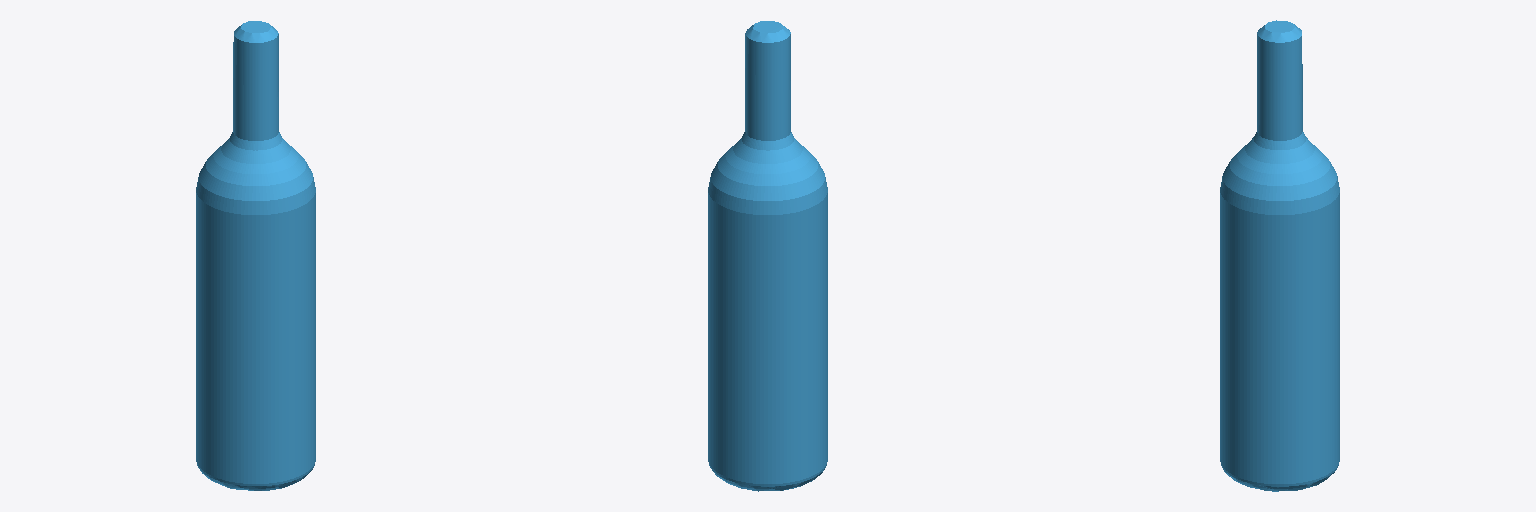
robot.urdf — bottle:
<?xml version="1.0" ?>
<robot name="bottle">
	<link name="bottle_pose"/>
	<link name="bottle">
		<visual>
			<origin xyz = "0 0 0"/>
			<geometry>
				<mesh filename="package://objects_description/bottle/bottle.obj" />
			</geometry>
		</visual>
		<collision>
			<origin xyz="0 0 0"/>
			<geometry>
				<mesh filename="package://objects_description/bottle/bottle.obj" />
			</geometry>
		</collision>
		<inertial>
			<mass value="1.2"/>
			<inertia ixx="0.0" ixy="0.0" ixz="0.0" iyy="0.0" iyz="0.0" izz="0.04" />
		</inertial>
	</link>
	<joint name="joint_0" type="fixed">
		<origin rpy="0 0 0" xyz="0 0 0"/>
		<child link="bottle_pose"/>
		<parent link="bottle"/>
	</joint>
</robot>

--- What the picture shows (computed from the rendered views, not written in the file) ---
3 views of the same robot in one strip: view 1: azimuth 30°, elevation 25°; view 2: azimuth 150°, elevation 25°; view 3: azimuth 270°, elevation 25° (orthographic).
Model bottle with 2 links and 1 joints (1 fixed), rooted at bottle, posed every joint at zero.
Links seen in each view (by area): view 1: bottle; view 2: bottle; view 3: bottle.
Link boxes in pixels (x1=…): bottle: x1=196, y1=21, x2=315, y2=490; bottle: x1=708, y1=21, x2=827, y2=491; bottle: x1=1220, y1=20, x2=1339, y2=491.
Size in the robot's own frame: 0.0731 by 0.0731 by 0.3006 metres.
1 mesh visuals loaded from 1 distinct referenced files (1 OBJ).